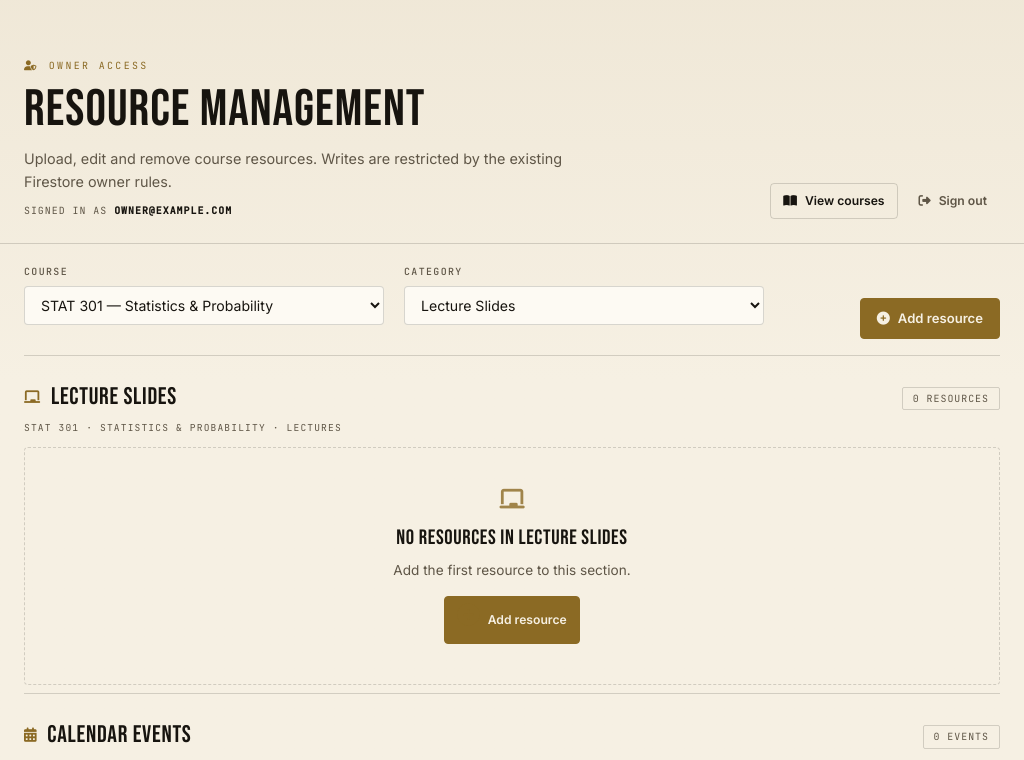
Test: AdminPage resource creation › rejects an invalid link without persisting
The width and height of the screenshot is (1024, 760).
Check: the heading "No resources in Lecture Slides" is shown, box x1=396 y1=525 x2=628 y2=550
Click the 1st button "Add resource": (930, 318) x1=860 y1=298 x2=1000 y2=339
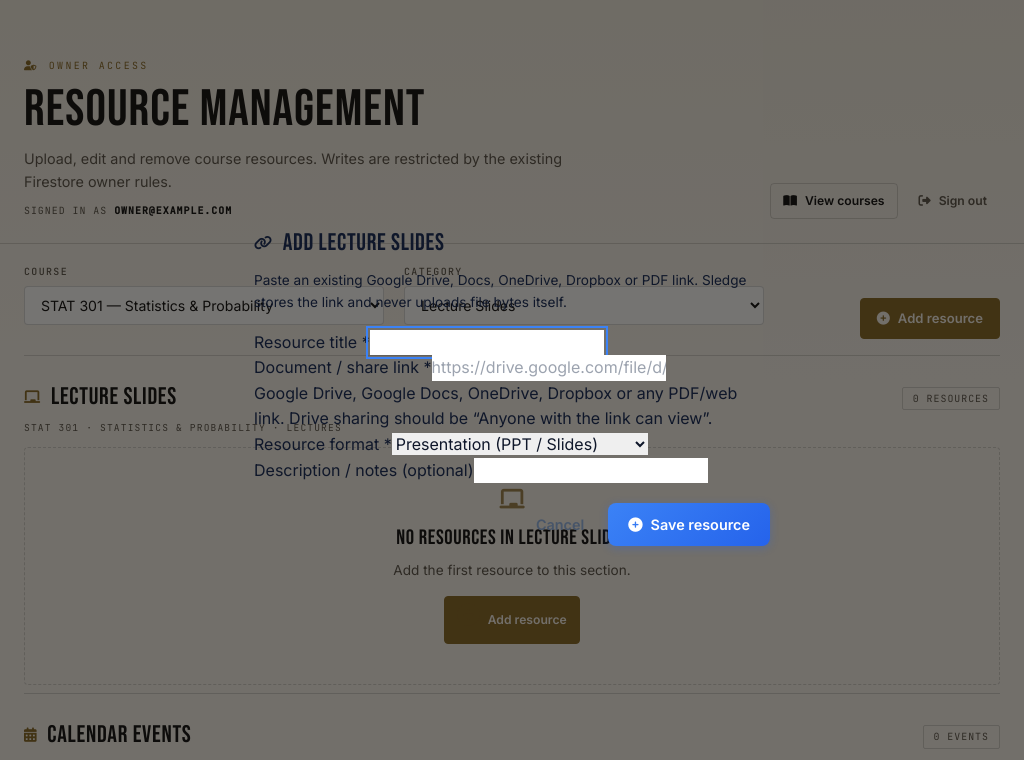
In the field labelled "Resource title *": (487, 342) x1=370 y1=330 x2=604 y2=355, type "Unsafe"
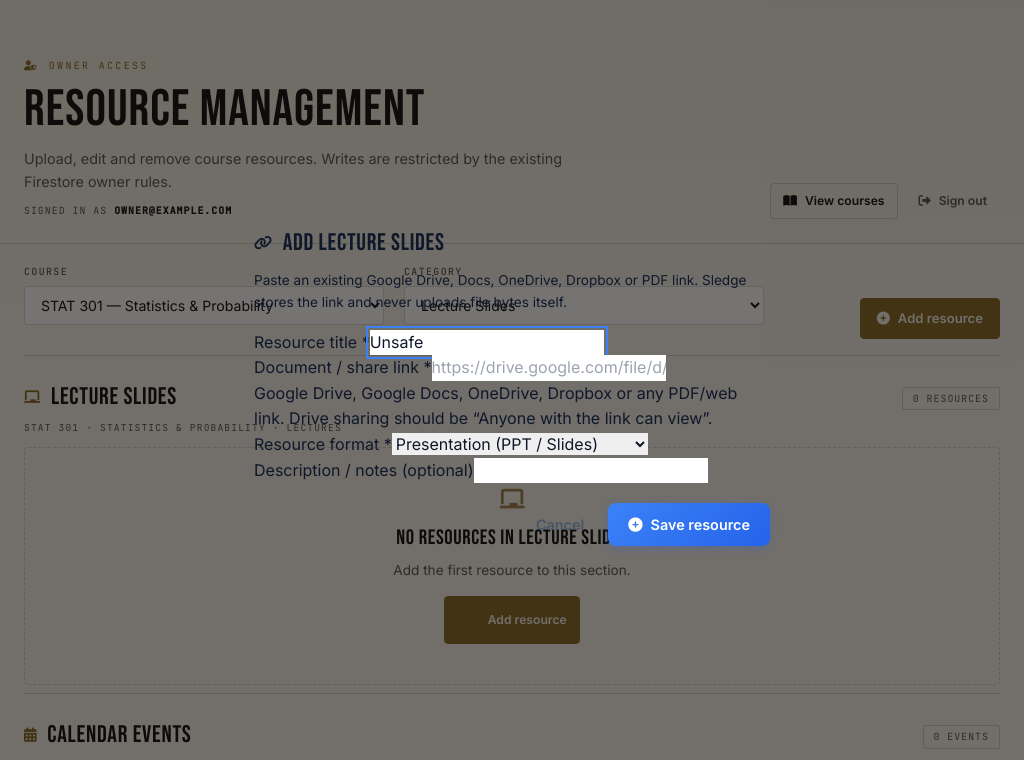
In the field labelled "Document / share link *": (548, 368) x1=432 y1=355 x2=666 y2=381, type "javascript:alert(1)"
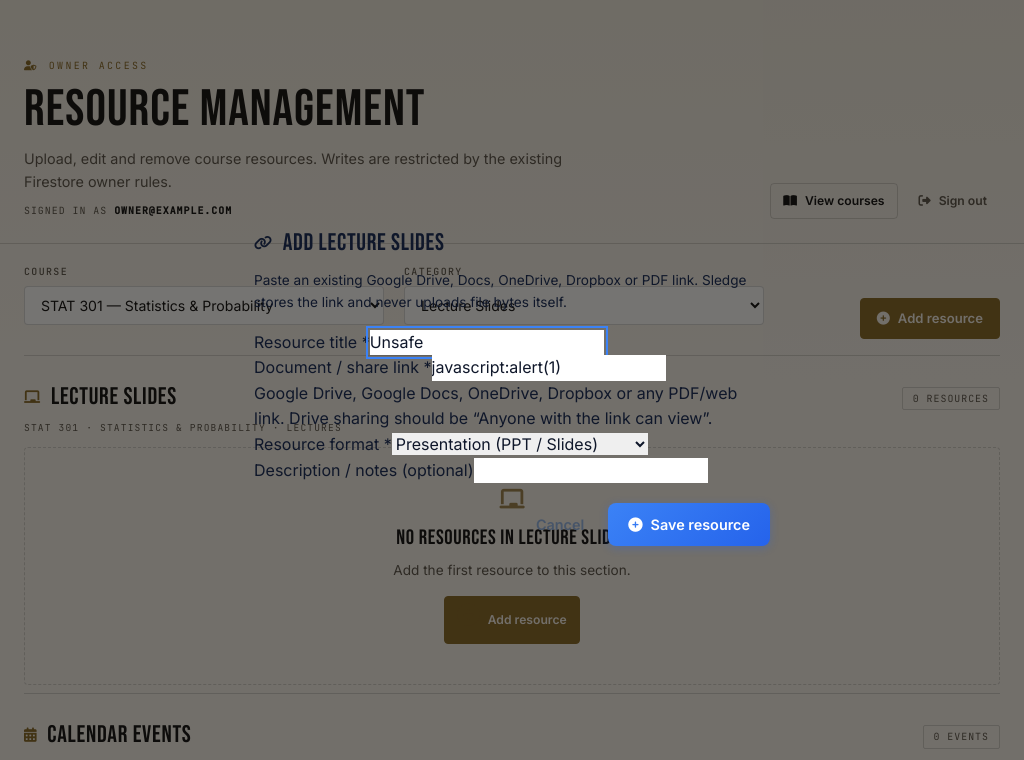
Click the button "Save resource": (689, 525) x1=608 y1=503 x2=770 y2=546
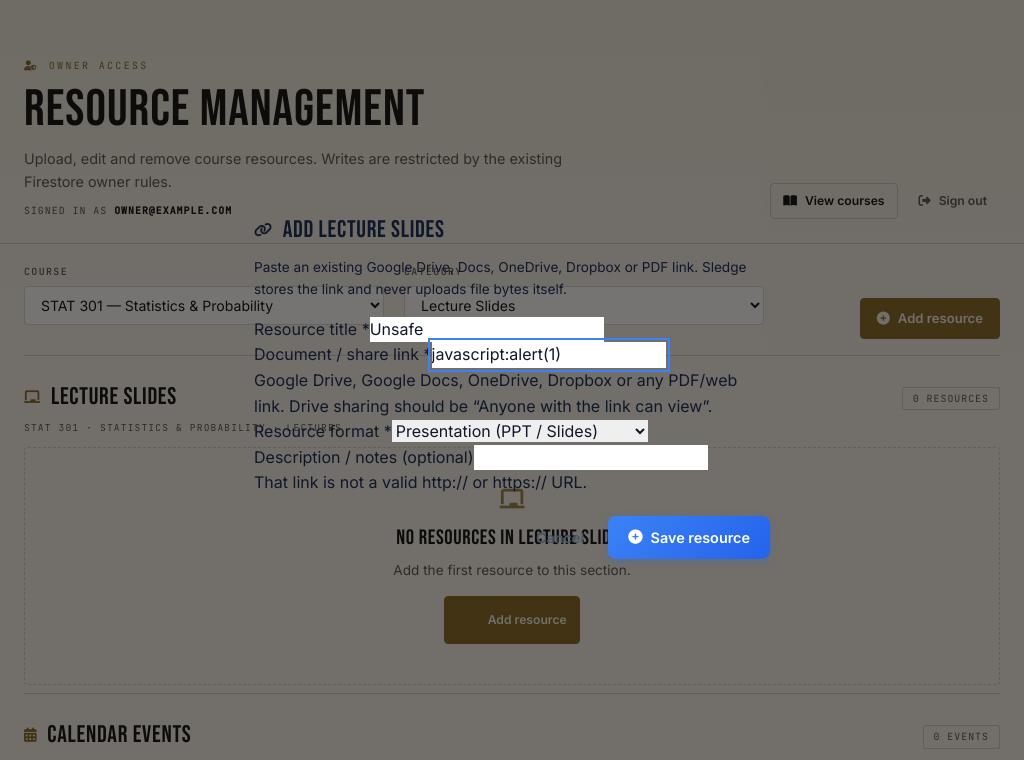
Check: the message shows "not a valid http:// or https:// URL", box x1=254 y1=472 x2=587 y2=492
